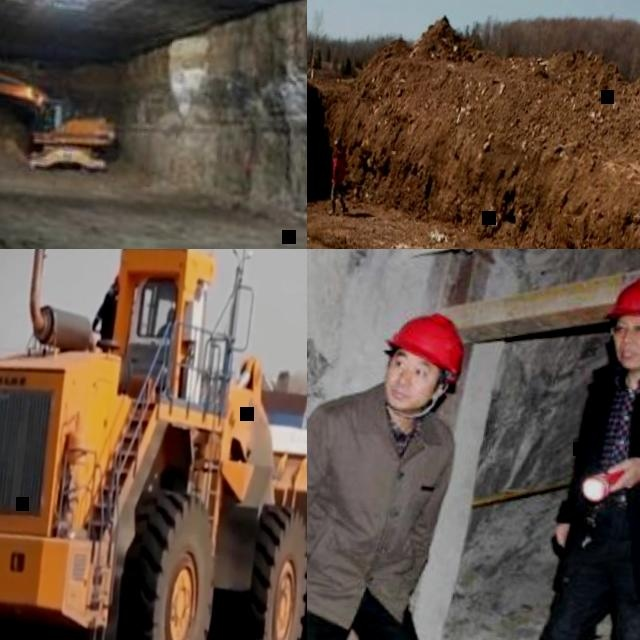Hardhat: (382, 303, 468, 380), (607, 272, 640, 330), (334, 138, 341, 145)
NO-Mask: (384, 374, 436, 410), (613, 337, 640, 373)
NO-Safety Vest: (307, 398, 457, 617), (572, 362, 640, 534), (330, 151, 347, 183)
Person: (307, 290, 477, 640), (523, 266, 640, 640), (324, 136, 356, 217), (156, 307, 175, 338)
machinery: (0, 249, 307, 640), (0, 59, 124, 177)
